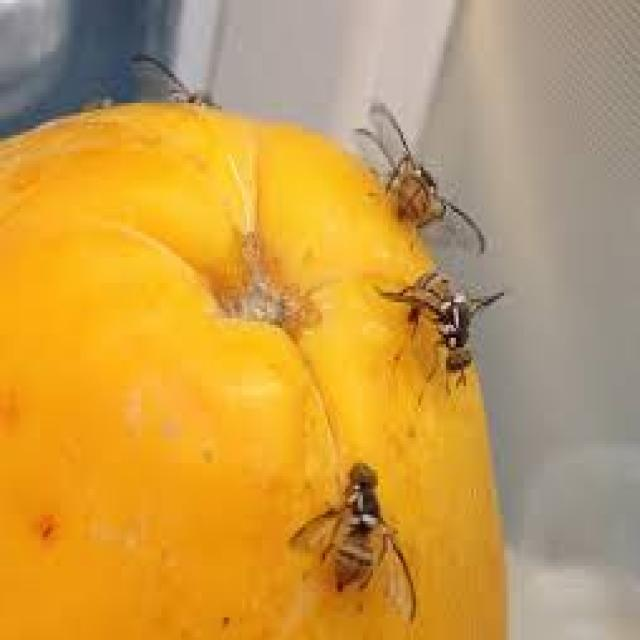fruit fly: (335, 71, 496, 267), (277, 431, 431, 624), (365, 238, 509, 396), (108, 29, 222, 125)
